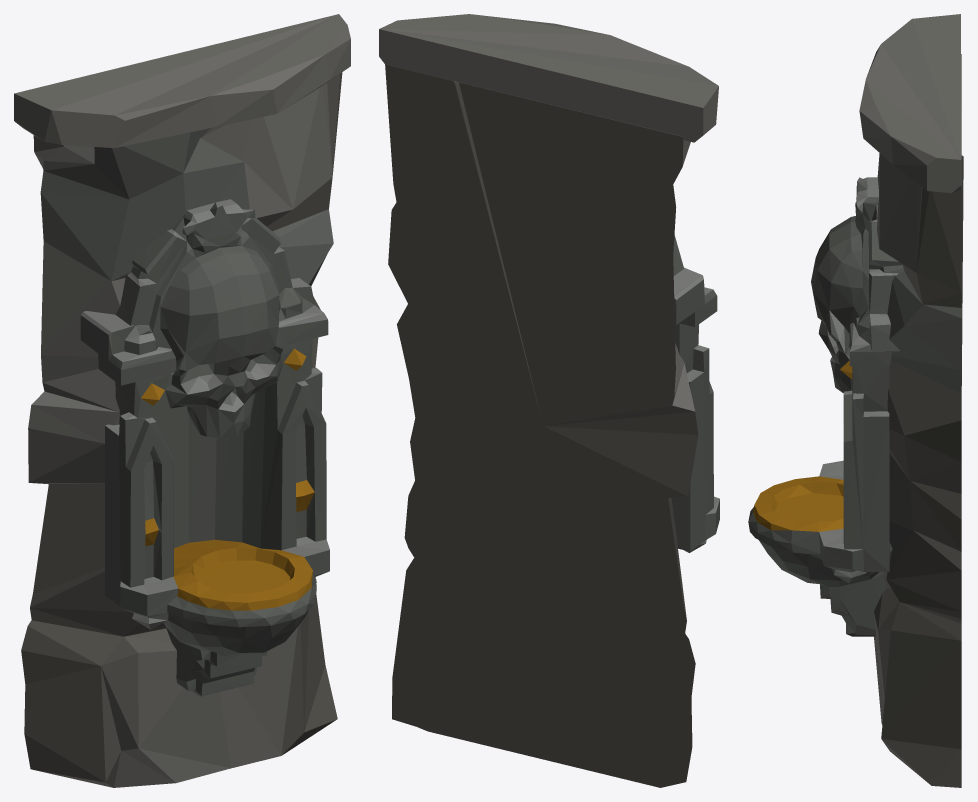
Rendered from MDungeon_Altar_Skull_01.FBX.
The picture shows the model from 3 angles, left to right: view 1: azimuth 30°, elevation 25°; view 2: azimuth 150°, elevation 25°; view 3: azimuth 270°, elevation 25°; orthographic projection. The views are drawn at different scales.
Parts seen in each view (by area): view 1: MDungeon_Altar_Skull_01_LOD0; view 2: MDungeon_Altar_Skull_01_LOD0; view 3: MDungeon_Altar_Skull_01_LOD0.
Boxes of the visible parts, bbox=[...] form: MDungeon_Altar_Skull_01_LOD0: bbox=[14, 14, 350, 787]; MDungeon_Altar_Skull_01_LOD0: bbox=[379, 14, 719, 787]; MDungeon_Altar_Skull_01_LOD0: bbox=[748, 14, 963, 787].
Size of what is drawn, in the model's own units: 1.93 by 3.93 by 1.2.
